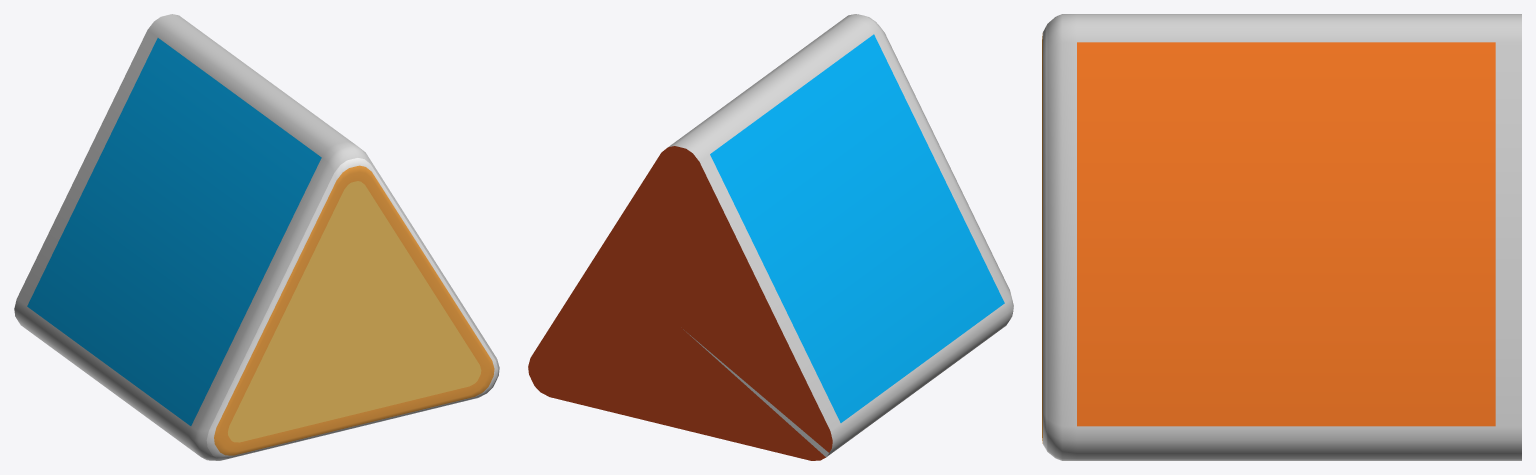
The model's file is D_FBX_06_Bumper_00_C.fbx.
3 renders of one model, left to right at view 1: azimuth 30°, elevation 25°; view 2: azimuth 150°, elevation 25°; view 3: azimuth 270°, elevation 25°, orthographic. The views are drawn at different scales.
Parts seen in each view (by area): view 1: D_FBX_06_Bumper_00_C; view 2: D_FBX_06_Bumper_00_C; view 3: D_FBX_06_Bumper_00_C.
Part boxes in pixels (left/top/right/bottom): D_FBX_06_Bumper_00_C: left=14, top=14, right=499, bottom=460; D_FBX_06_Bumper_00_C: left=528, top=14, right=1013, bottom=460; D_FBX_06_Bumper_00_C: left=1042, top=14, right=1521, bottom=460.
Size of the model in its own units: 1.95 by 1.73 by 2.09.
